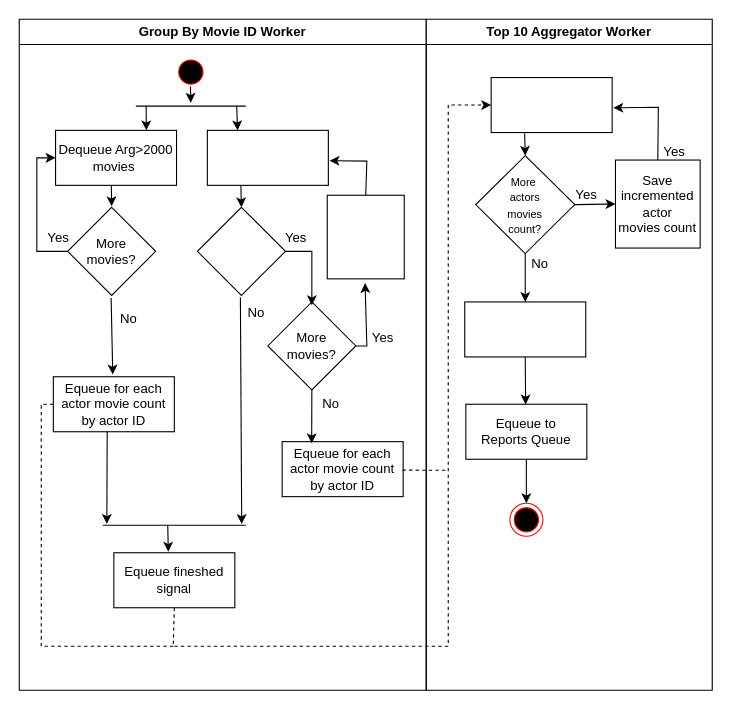
The diagram is 732 pixels wide and 710 high, and some of its shapes have lost their labels. The centre of each missing label's shape, as x and y in pixels:
Calculate Top 10: pixel 525 329
Dequeue actors by movies count: pixel 551 104
Dequeue Credits: pixel 267 157
More credits?: pixel 240 250
Save incremented cast movies count: pixel 365 236
